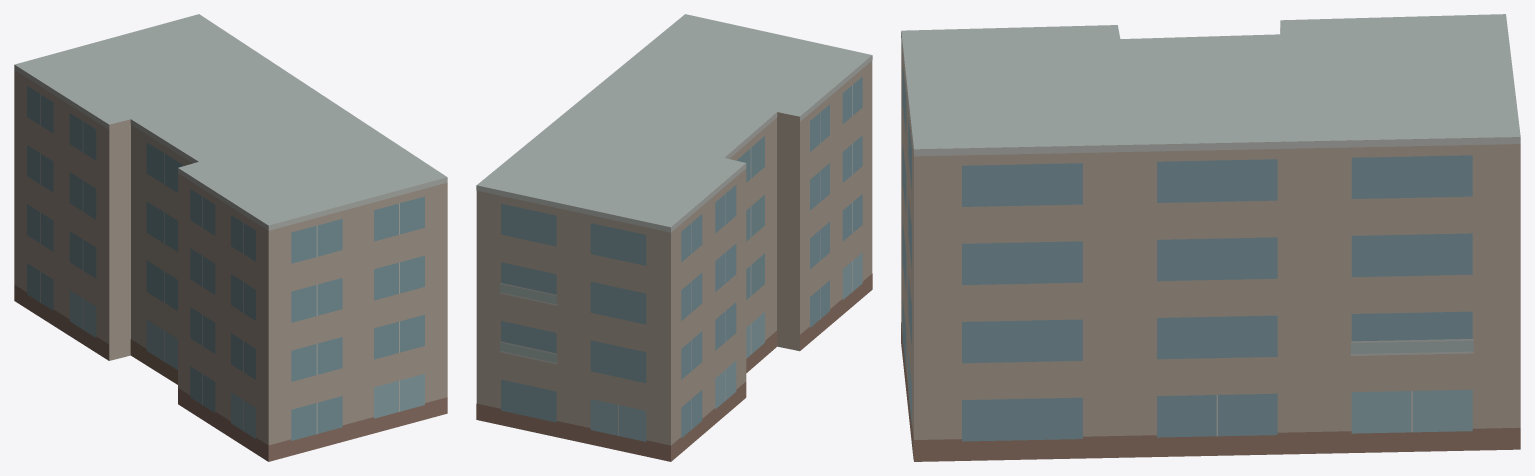
The model's file is survey-upis-32758754.glb.
The picture shows the model from 3 angles, left to right: view 1: azimuth 30°, elevation 25°; view 2: azimuth 150°, elevation 25°; view 3: azimuth 270°, elevation 25°; orthographic projection. The views are drawn at different scales.
Parts seen in each view (by area): view 1: survey-upis-32758754.tmp; view 2: survey-upis-32758754.tmp; view 3: survey-upis-32758754.tmp.
Part boxes in pixels (x1,y1,x2,y2): survey-upis-32758754.tmp: (14, 14, 447, 461); survey-upis-32758754.tmp: (476, 14, 872, 461); survey-upis-32758754.tmp: (901, 14, 1520, 461).
Size of the model in its own units: 10.08 by 10.85 by 19.5.
